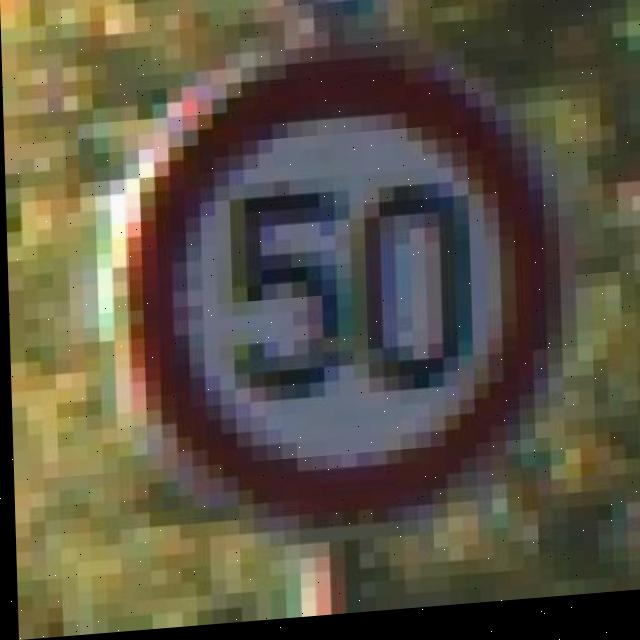Speed limit 50: (132, 48, 557, 534)
